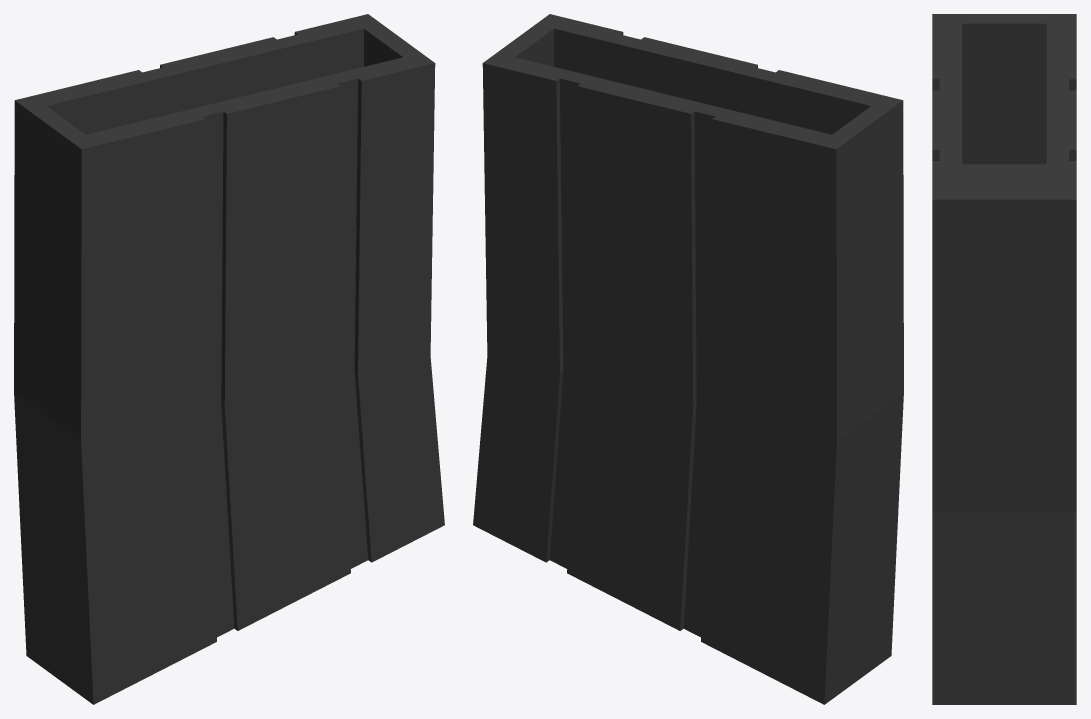
Rendered from SniperRifle2_01_2.fbx.
The picture shows the model from 3 angles, left to right: view 1: azimuth 30°, elevation 25°; view 2: azimuth 150°, elevation 25°; view 3: azimuth 270°, elevation 25°; orthographic projection. The views are drawn at different scales.
Parts seen in each view (by area): view 1: SniperRifle2_01_2; view 2: SniperRifle2_01_2; view 3: SniperRifle2_01_2.
Boxes of the visible parts, x1,y1,x2,y2 form: SniperRifle2_01_2: [14, 14, 444, 704]; SniperRifle2_01_2: [473, 14, 903, 704]; SniperRifle2_01_2: [932, 14, 1076, 704].
Bounding box in the file's own units: 0.1008 × 0.1479 × 0.0322.
